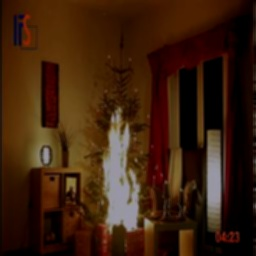fire: (89, 101, 152, 232)
